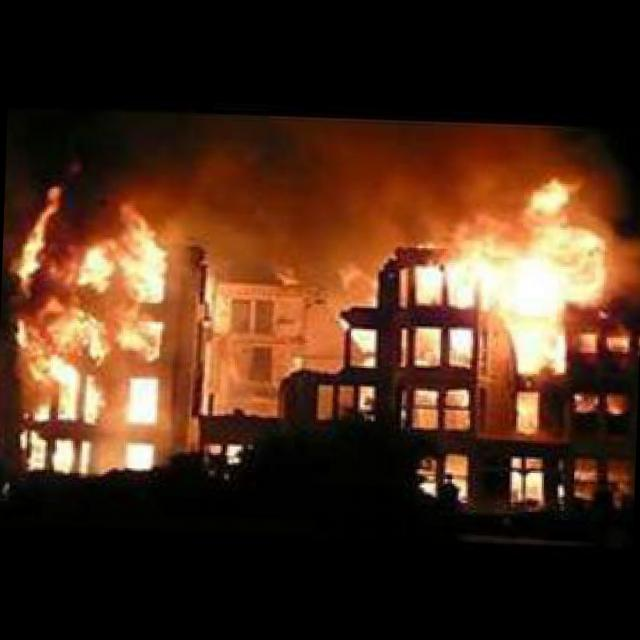fire: (386, 164, 624, 381), (0, 177, 169, 422), (334, 291, 379, 375)
